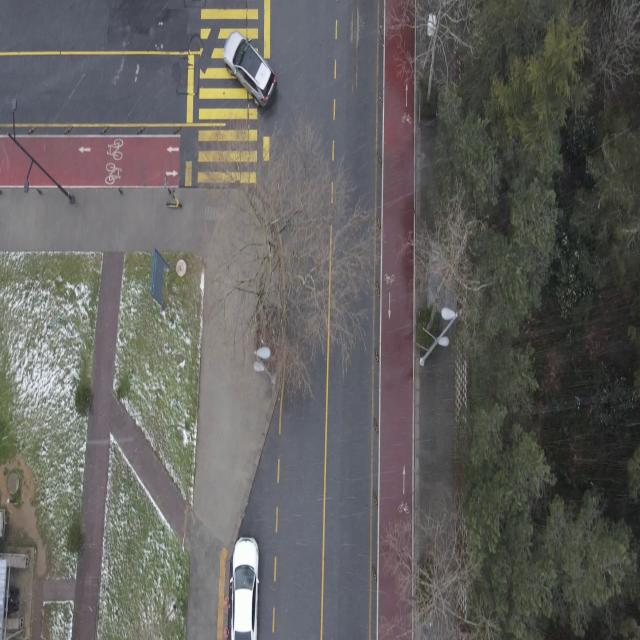p3rson: (3, 597, 20, 616)
